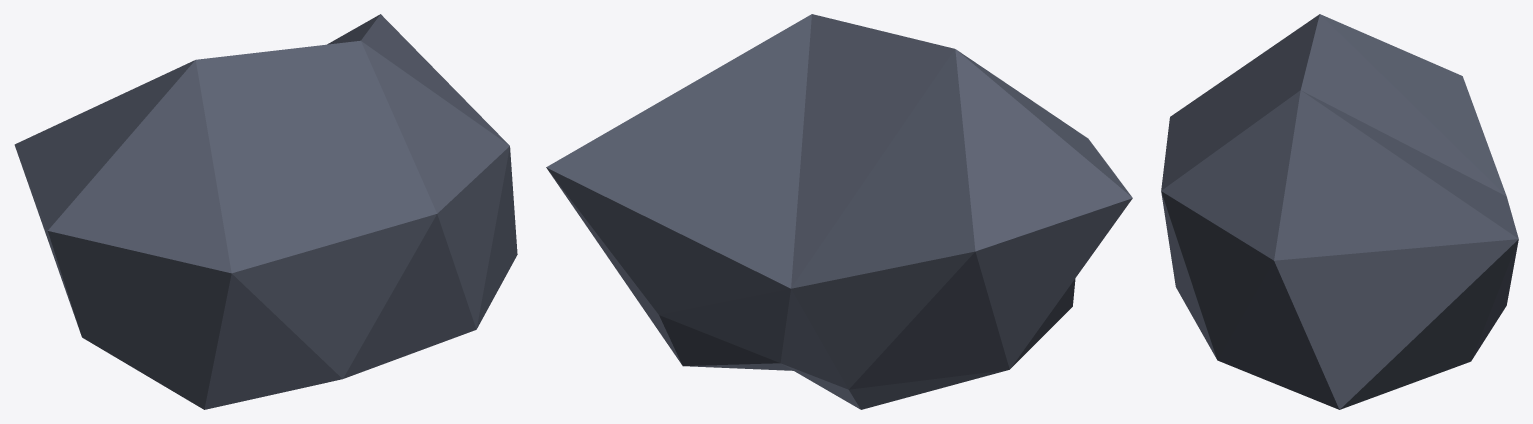
File: Rock2.fbx
3 renders of one model, left to right at view 1: azimuth 30°, elevation 25°; view 2: azimuth 150°, elevation 25°; view 3: azimuth 270°, elevation 25°, orthographic. The views are drawn at different scales.
Visible parts, largest first — view 1: Rock2; view 2: Rock2; view 3: Rock2.
Boxes of the visible parts, x1,y1,x2,y2 form: Rock2: (14, 14, 517, 409); Rock2: (546, 14, 1132, 409); Rock2: (1161, 14, 1518, 409).
Size of the model in its own units: 177 by 113 by 124.
